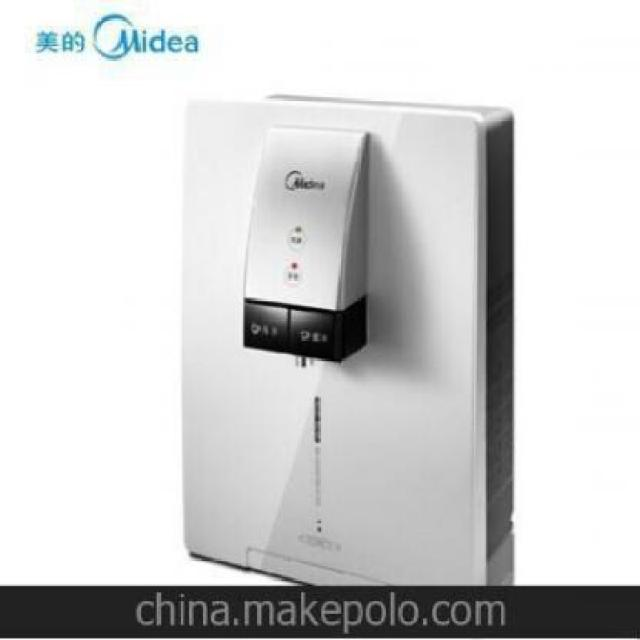cooler: (175, 83, 518, 586)
